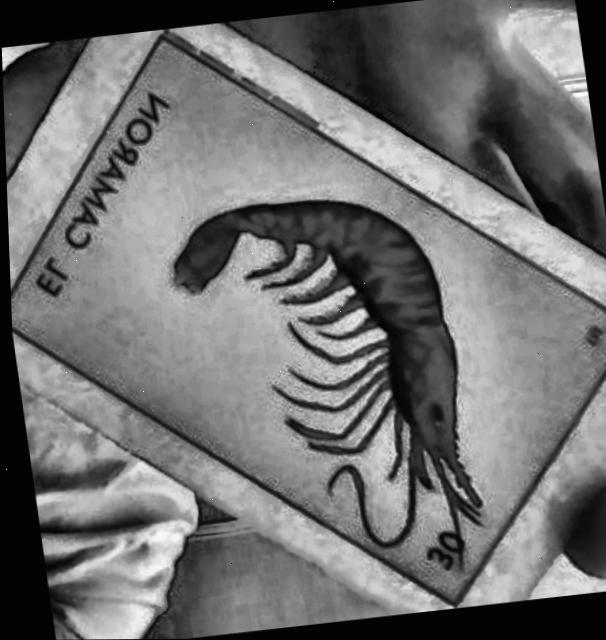El Camaron: (8, 33, 606, 604)
